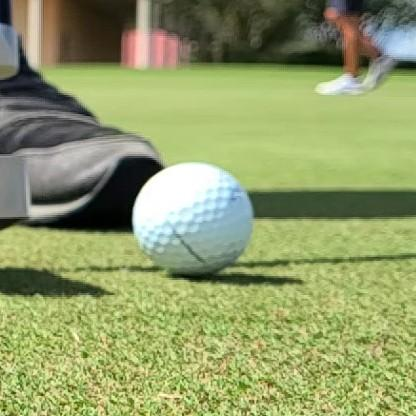golfball: (133, 163, 253, 275)
